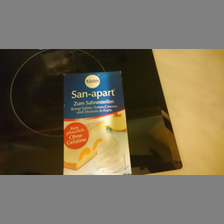cake: (62, 70, 132, 175)
